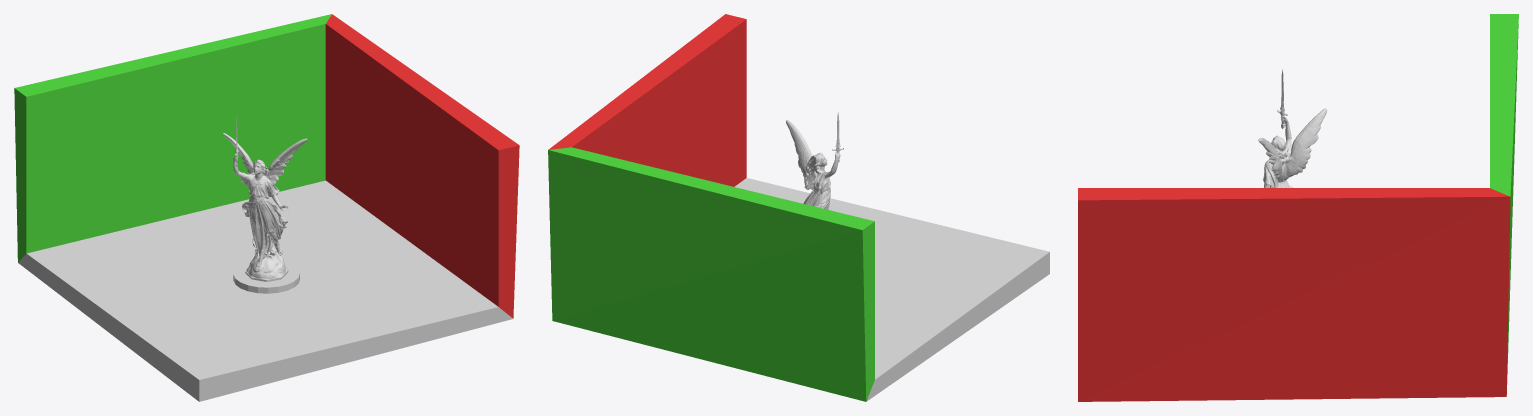
Rendered from RSM.obj.
The picture shows the model from 3 angles, left to right: view 1: azimuth 30°, elevation 25°; view 2: azimuth 150°, elevation 25°; view 3: azimuth 270°, elevation 25°; orthographic projection. The views are drawn at different scales.
Visible parts, largest first — view 1: Plane, winged_victory_with_big_sword; view 2: Plane, winged_victory_with_big_sword; view 3: Plane, winged_victory_with_big_sword.
Part boxes in pixels (<box>): Plane: <box>14,14,519,401</box>; winged_victory_with_big_sword: <box>222,117,307,293</box>; Plane: <box>548,14,1049,401</box>; winged_victory_with_big_sword: <box>786,112,843,209</box>; Plane: <box>1078,14,1518,401</box>; winged_victory_with_big_sword: <box>1258,69,1327,187</box>.
Bounding box in the file's own units: 8.56 × 4.92 × 8.56.
